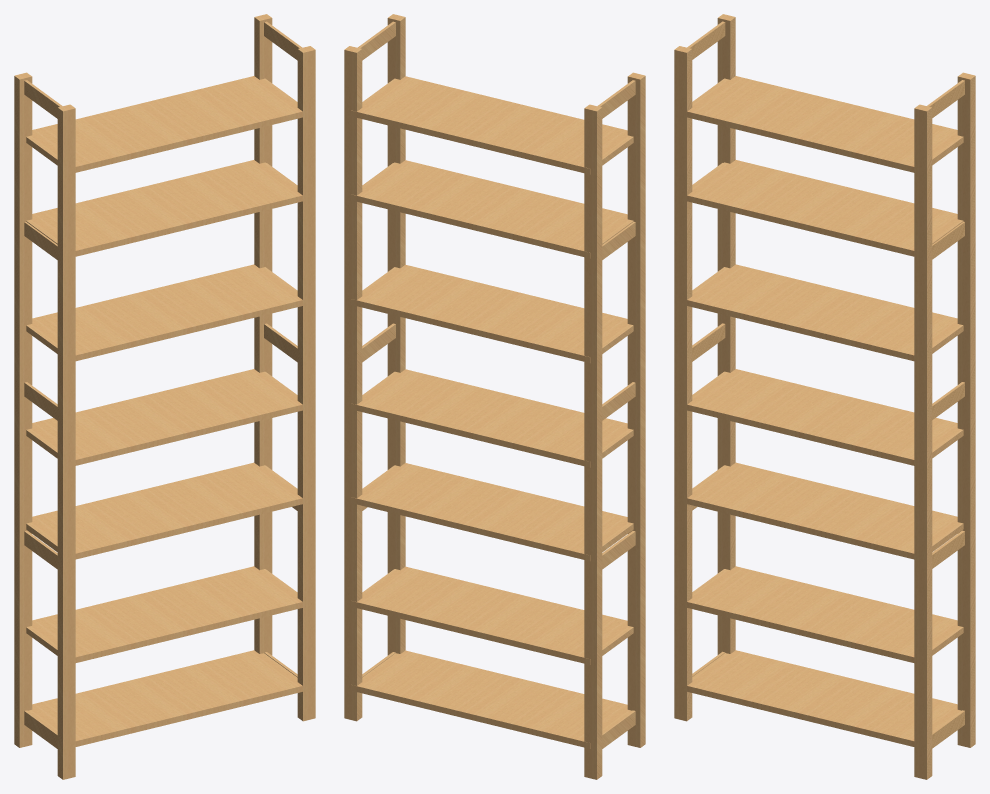
File: sweethome3d-contributions-pinewood-rack-full-height-193.glb
The picture shows the model from 3 angles, left to right: view 1: azimuth 30°, elevation 25°; view 2: azimuth 150°, elevation 25°; view 3: azimuth 330°, elevation 25°; orthographic projection.
Parts seen in each view (by area): view 1: rack; view 2: rack; view 3: rack.
Part boxes in pixels (x1,y1,x2,y2): rack: [14, 14, 315, 779]; rack: [344, 14, 645, 779]; rack: [674, 14, 975, 779].
Size of the model in its own units: 89.8 by 227 by 30.17.
1 material, 1 textured.
